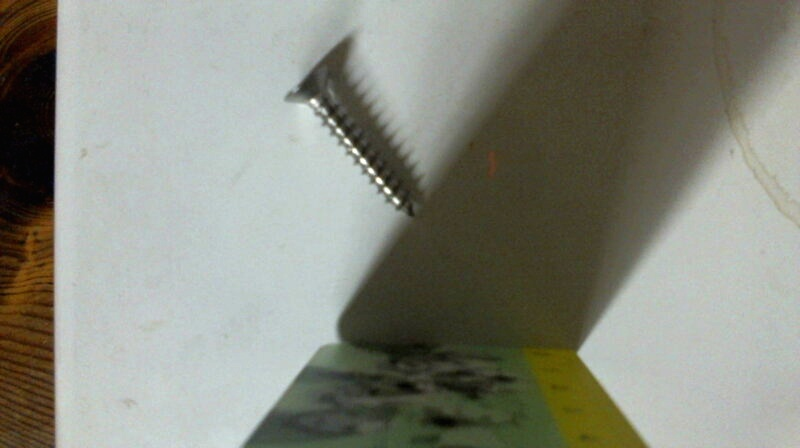S001: (280, 65, 422, 221)
